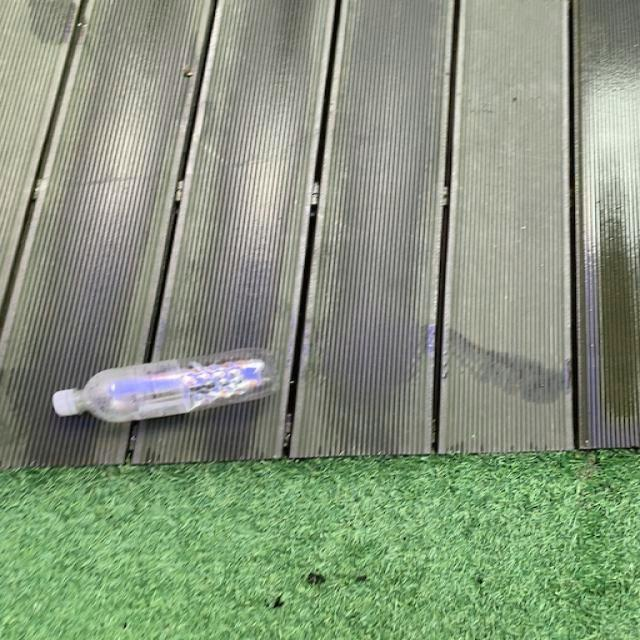bottle: (52, 348, 280, 423)
